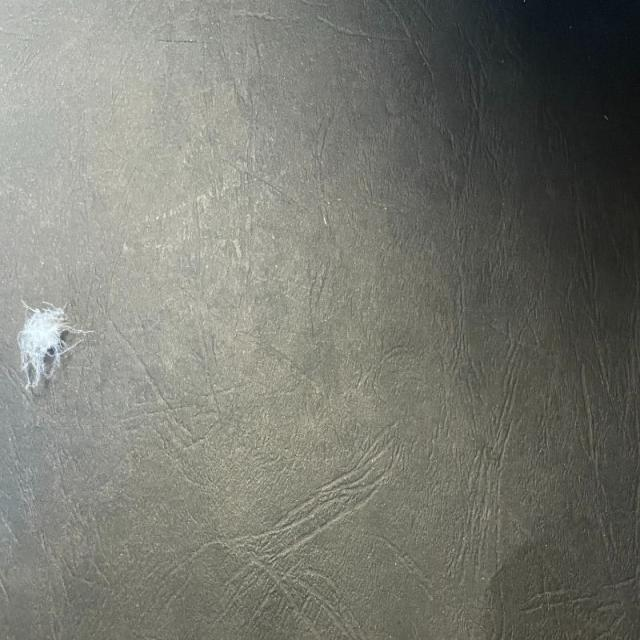feather: (13, 292, 74, 390)
